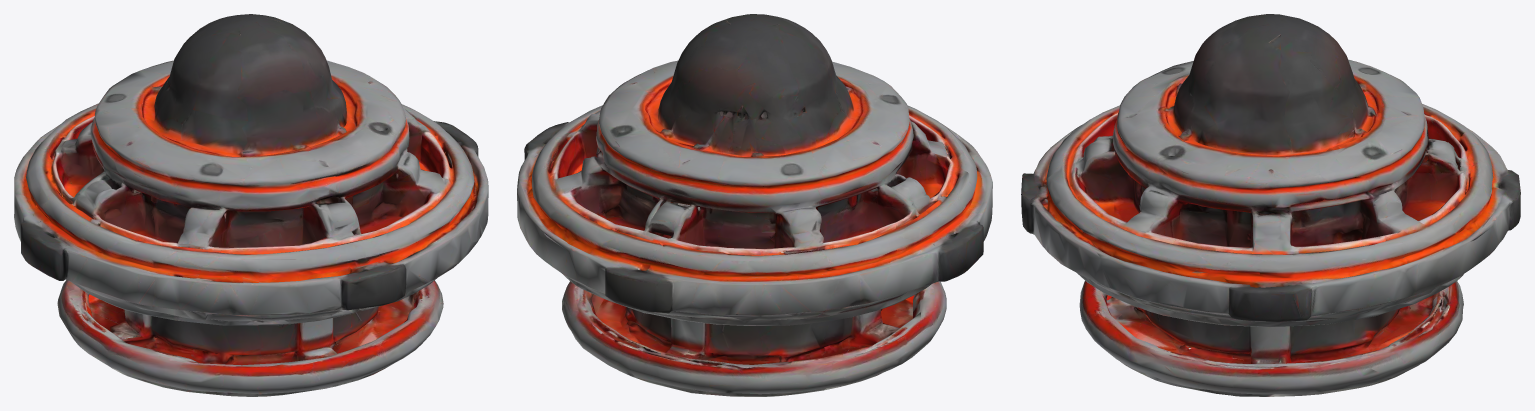
The model's file is apex-reliquia-reactor.glb.
3 renders of one model, left to right at view 1: azimuth 30°, elevation 25°; view 2: azimuth 150°, elevation 25°; view 3: azimuth 270°, elevation 25°, orthographic.
Size of the model in its own units: 2 by 1.35 by 2.
Materials: 1 (1 with a texture image).
